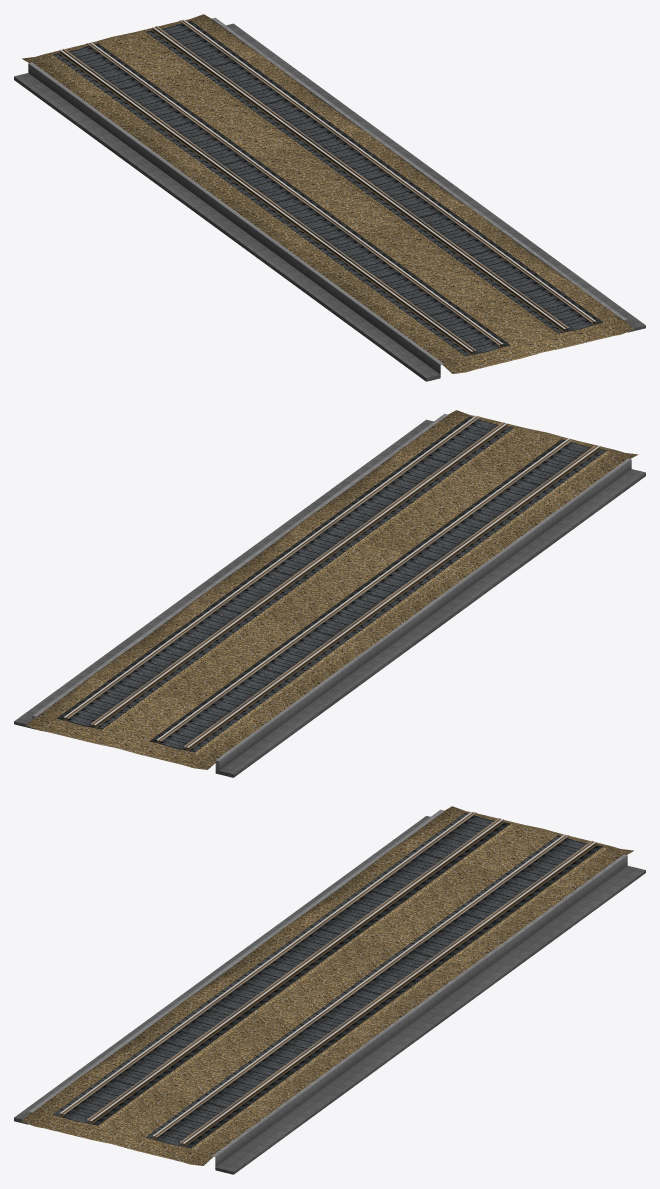
File: JR_RAIL00_100.glb
The picture shows the model from 3 angles, top to bottom: view 1: azimuth 30°, elevation 25°; view 2: azimuth 150°, elevation 25°; view 3: azimuth 330°, elevation 25°; orthographic projection.
Parts seen in each view (by area): view 1: Jari_All, R000_RG_R, R000_RG_L; view 2: Jari_All, R000_RG_R, R000_RG_L; view 3: Jari_All, R000_RG_L, R000_RG_R.
Boxes of the visible parts, left/top/right/bottom form: Jari_All: left=14, top=14, right=645, bottom=381; R000_RG_R: left=62, top=26, right=568, bottom=352; R000_RG_L: left=86, top=20, right=592, bottom=345; Jari_All: left=14, top=410, right=645, bottom=777; R000_RG_R: left=90, top=422, right=597, bottom=748; R000_RG_L: left=66, top=416, right=573, bottom=742; Jari_All: left=14, top=806, right=645, bottom=1174; R000_RG_L: left=87, top=818, right=593, bottom=1144; R000_RG_R: left=63, top=812, right=569, bottom=1137.
Bounding box in the file's own units: 30.76 × 2.55 × 105.
Materials: 7 (6 with a texture image).
